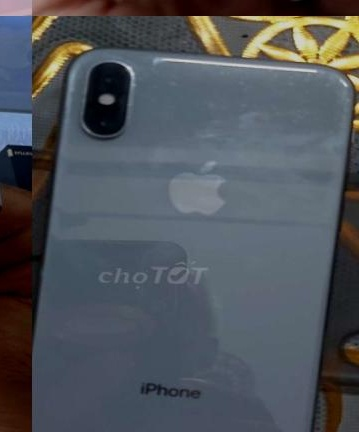scratch: (199, 53, 252, 94), (137, 68, 198, 99), (264, 65, 307, 97), (311, 64, 338, 100), (207, 93, 225, 117), (240, 99, 262, 118)
